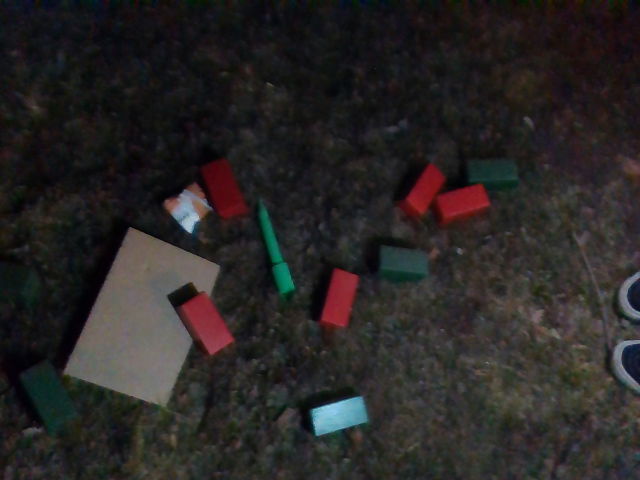Probe: (250, 192, 305, 298)
